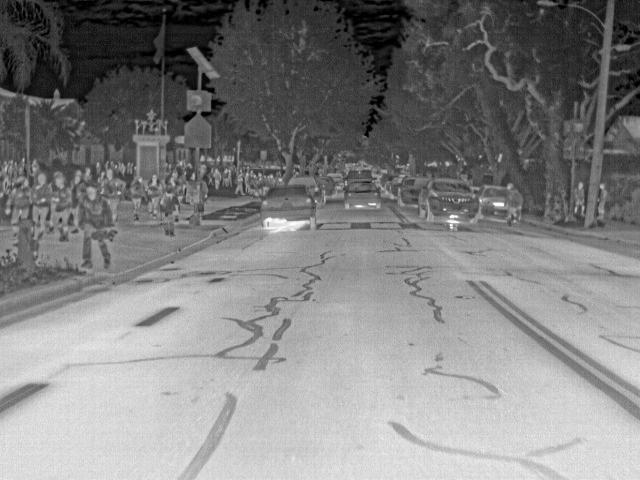car: (417, 177, 481, 224), (259, 182, 317, 229), (288, 174, 325, 206), (342, 182, 384, 209), (480, 183, 508, 222), (399, 176, 428, 206), (343, 166, 374, 182), (389, 175, 405, 200), (320, 174, 336, 196), (329, 169, 346, 189), (382, 176, 395, 190)
person: (81, 184, 111, 270), (48, 174, 72, 244), (10, 174, 35, 226), (34, 171, 50, 235), (505, 180, 524, 229), (105, 167, 119, 223), (147, 174, 163, 220), (131, 174, 145, 223), (166, 188, 180, 236), (574, 179, 588, 215), (597, 181, 609, 222), (233, 166, 246, 197), (213, 166, 223, 188), (233, 172, 245, 190), (73, 177, 84, 196), (264, 170, 276, 186), (83, 167, 95, 182), (222, 166, 230, 187), (275, 174, 287, 188), (180, 169, 188, 189), (248, 168, 256, 186), (255, 169, 265, 182), (457, 172, 468, 182), (98, 169, 106, 182), (102, 159, 111, 170), (94, 162, 102, 174), (127, 160, 133, 176), (169, 169, 179, 178), (167, 176, 175, 187), (120, 162, 127, 174), (189, 170, 196, 182), (72, 167, 82, 175), (118, 162, 124, 174)
